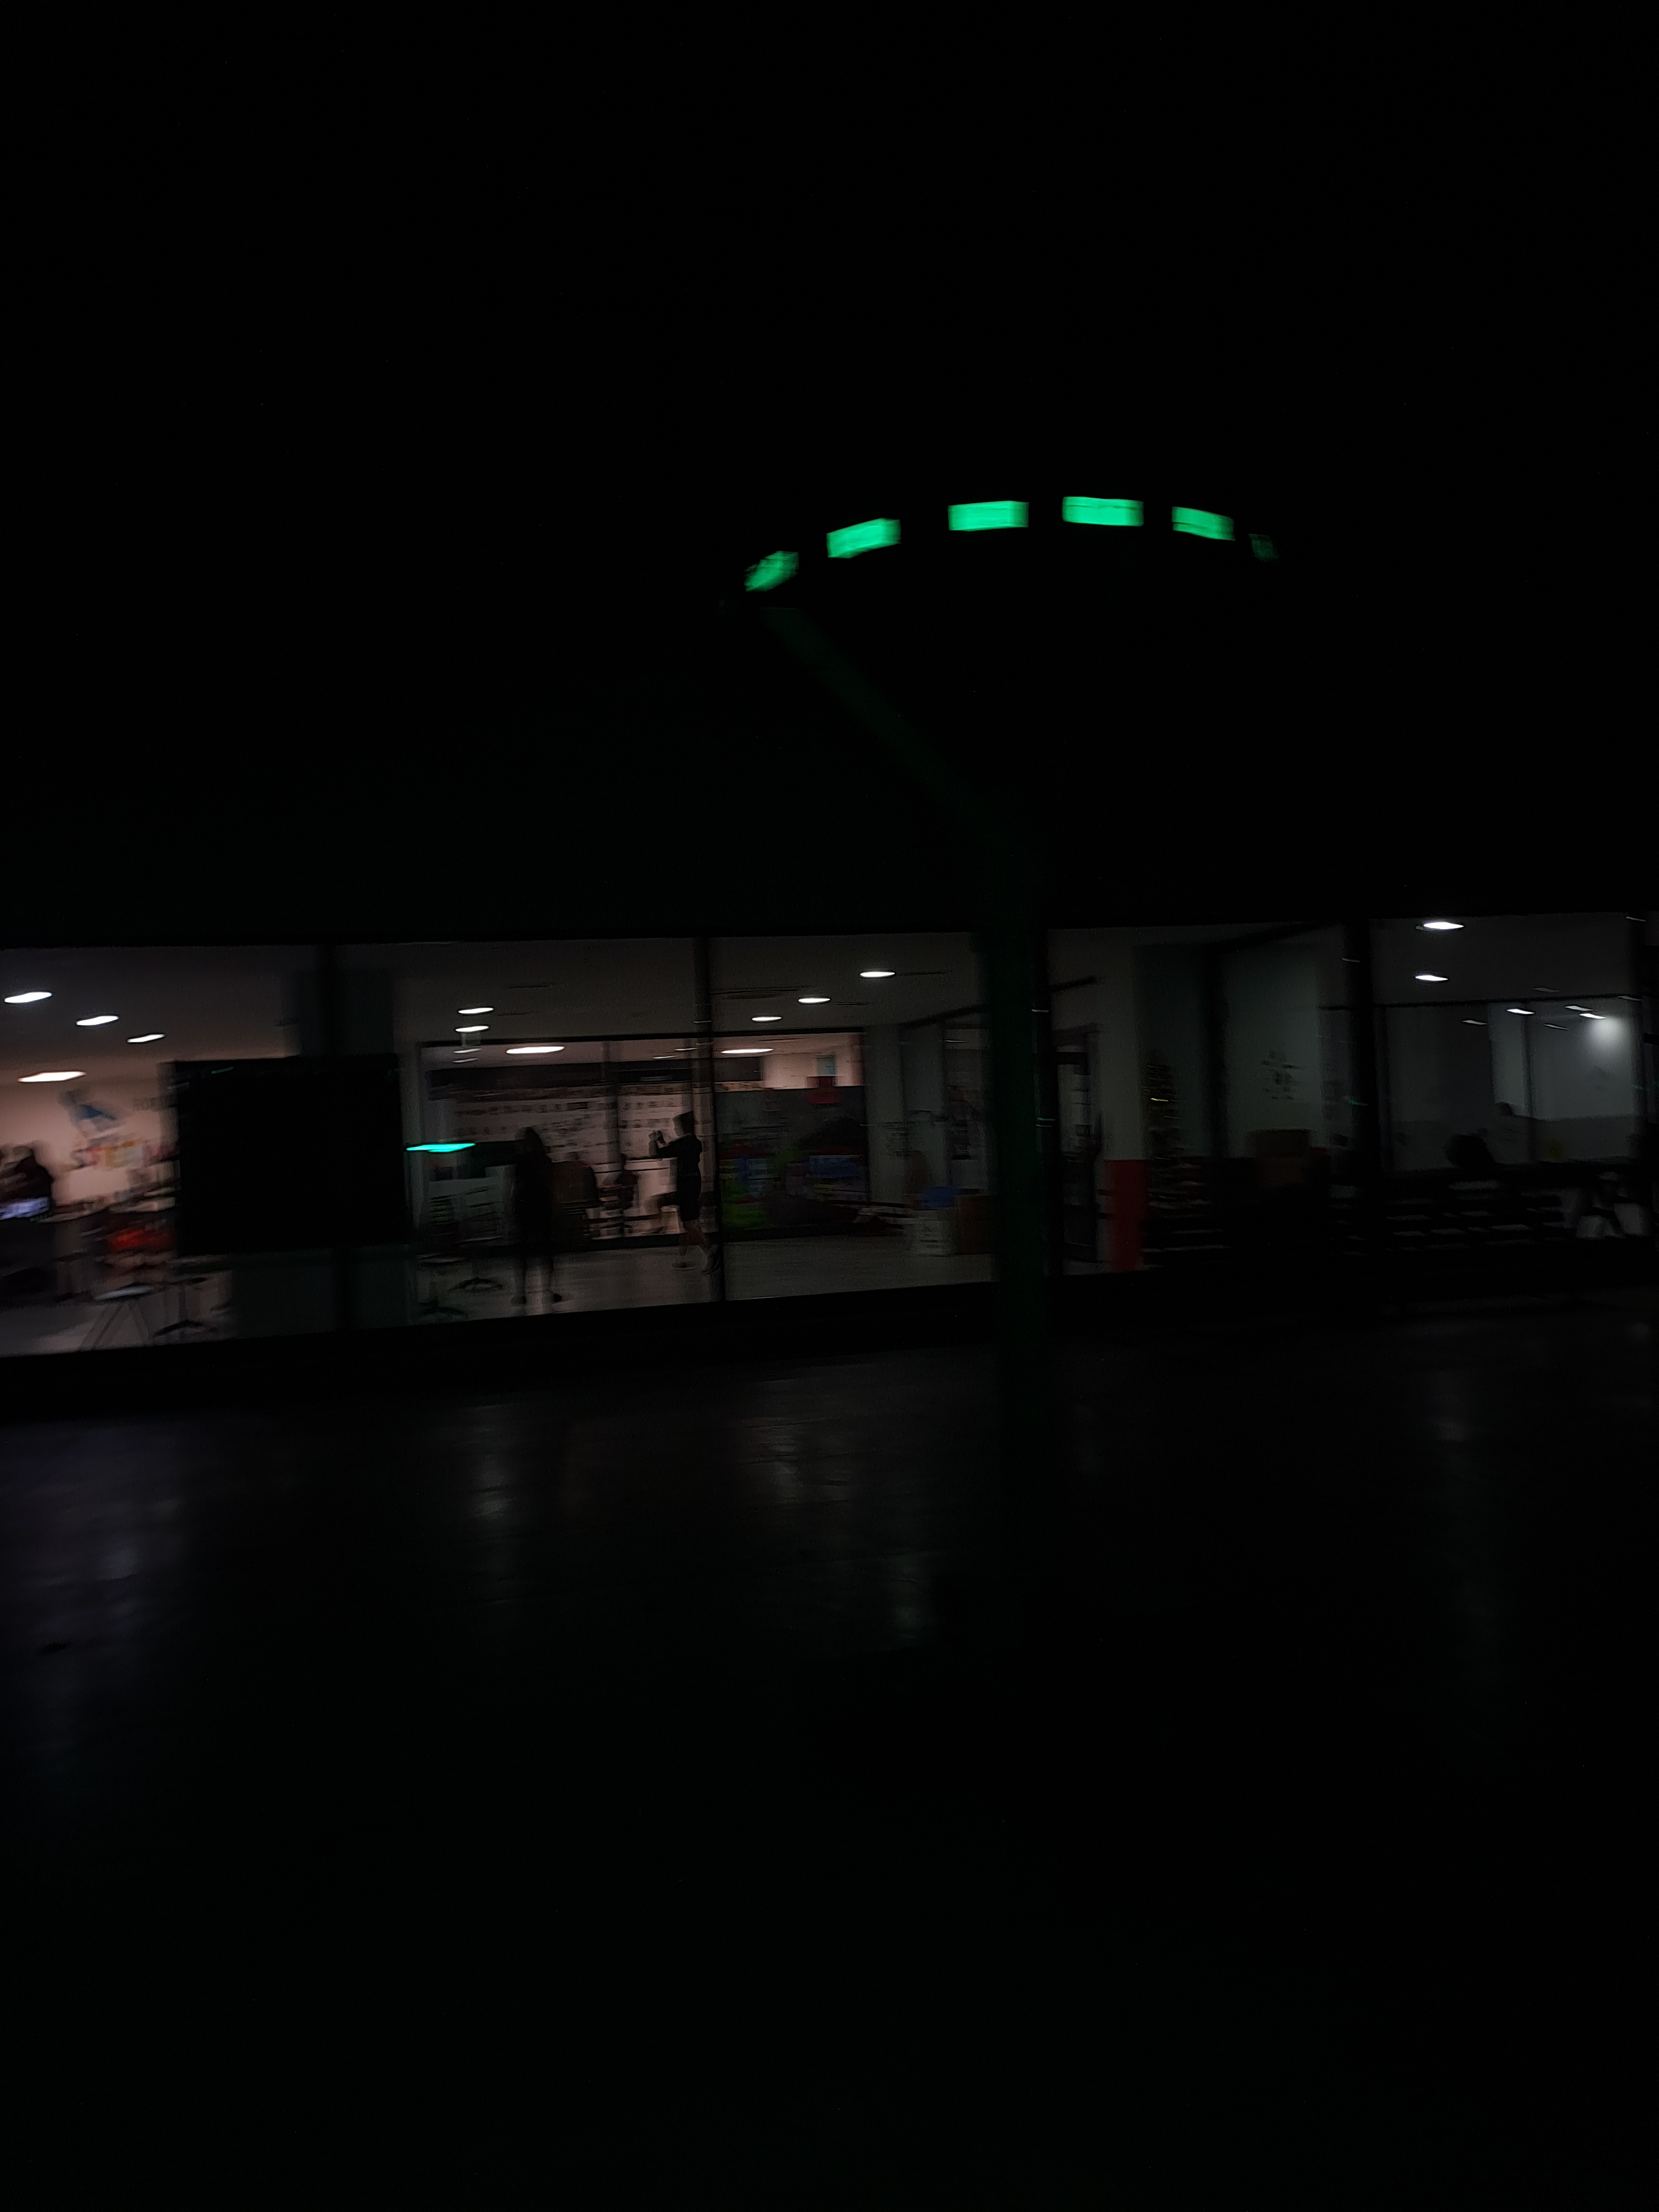hoop: (708, 484, 1270, 608)
